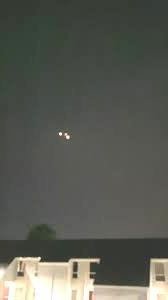Plane: (51, 121, 77, 149)
